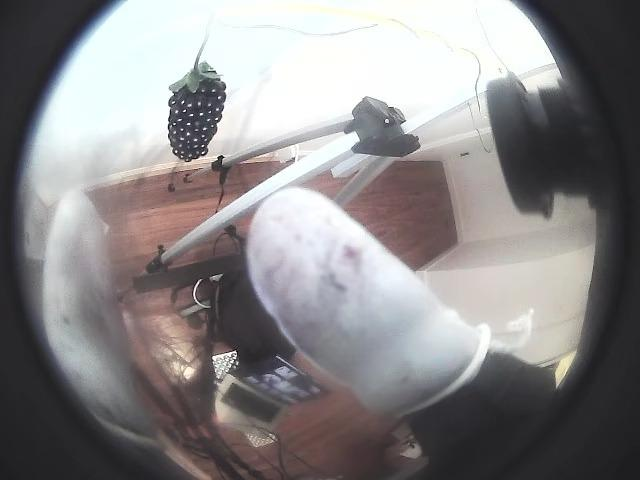berry: (168, 56, 225, 161)
gripper: (246, 187, 492, 415), (43, 190, 153, 435)
lense: (0, 0, 174, 479), (492, 0, 639, 479)
